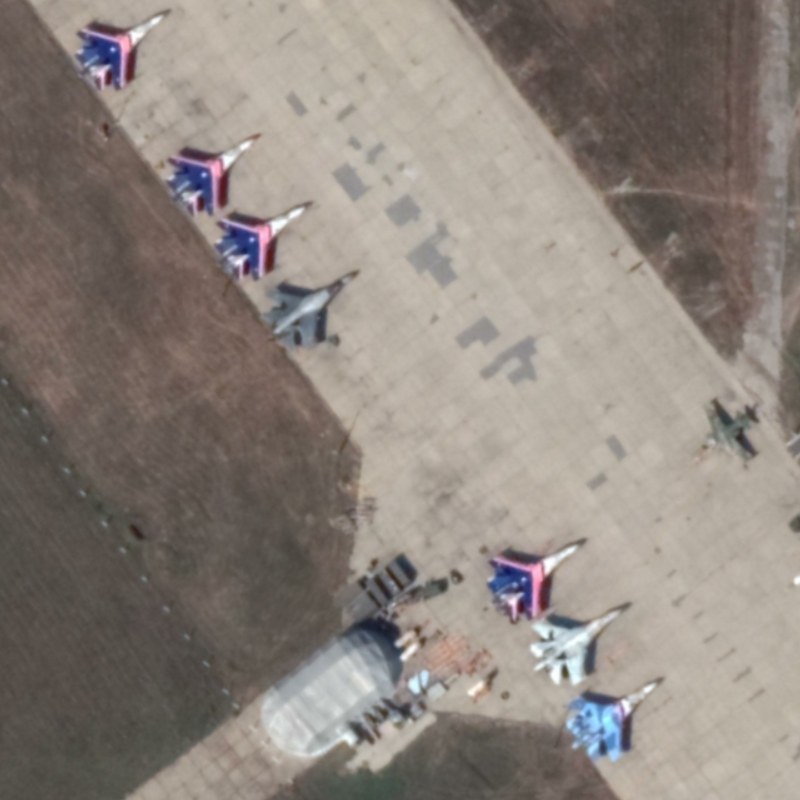A1: (256, 271, 355, 355), (564, 680, 659, 765), (484, 542, 580, 625), (162, 137, 257, 220), (212, 204, 308, 286), (527, 606, 623, 688), (72, 11, 166, 93)
